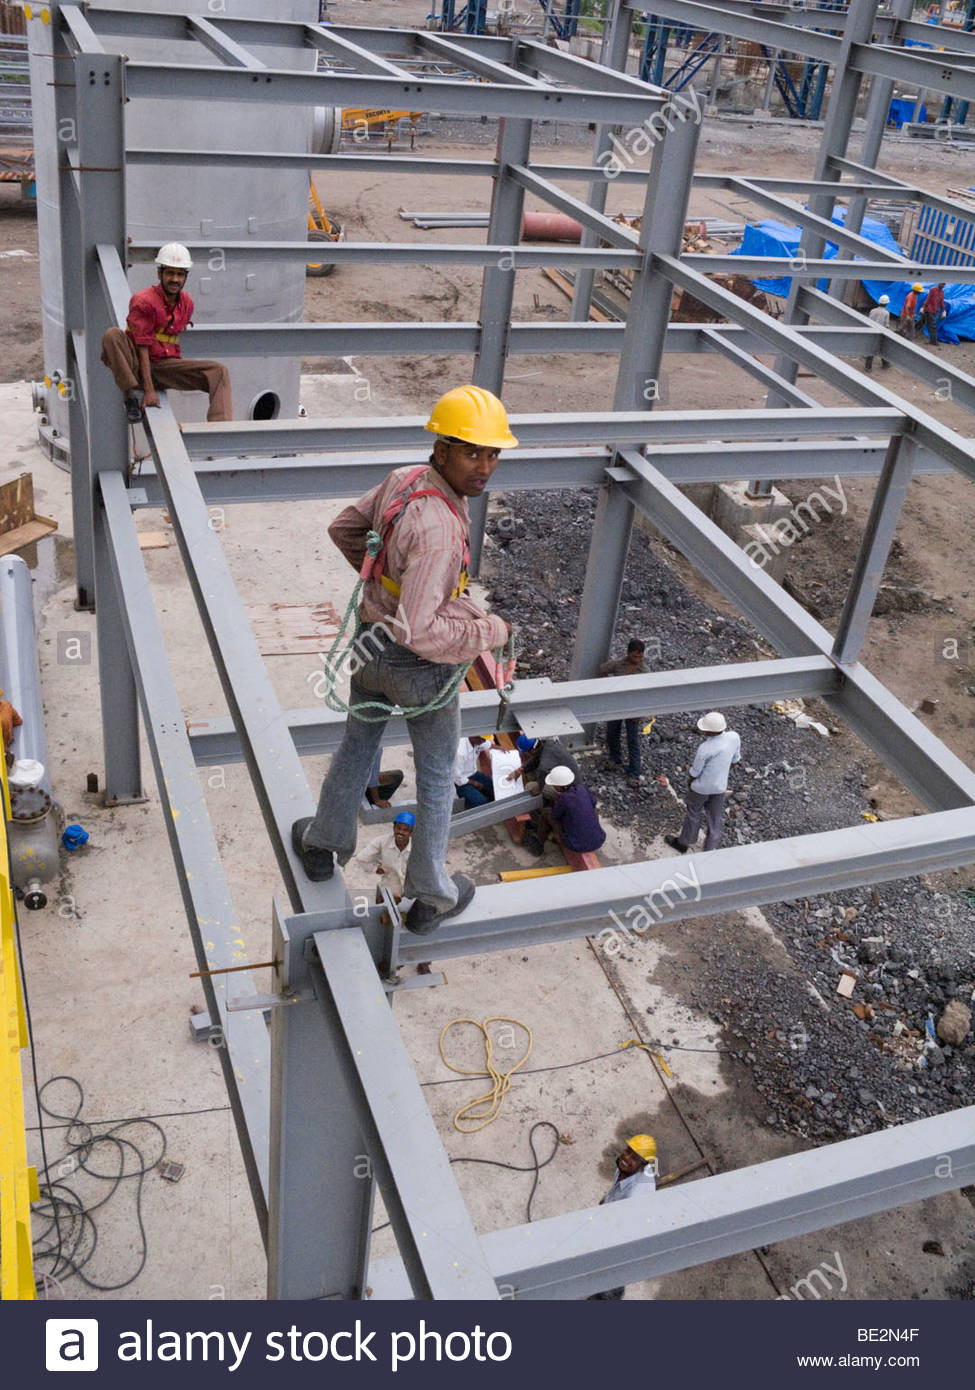NoJacket: (360, 384, 515, 672), (133, 245, 200, 357), (692, 710, 739, 800)
